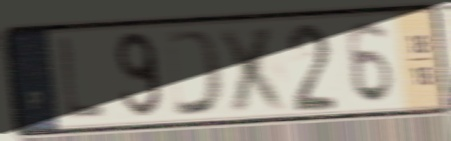2: (285, 18, 340, 115)
6: (344, 18, 397, 107)
9: (114, 27, 166, 124)
D: (163, 26, 227, 120)
L: (56, 34, 107, 123)
X: (215, 22, 294, 115)
